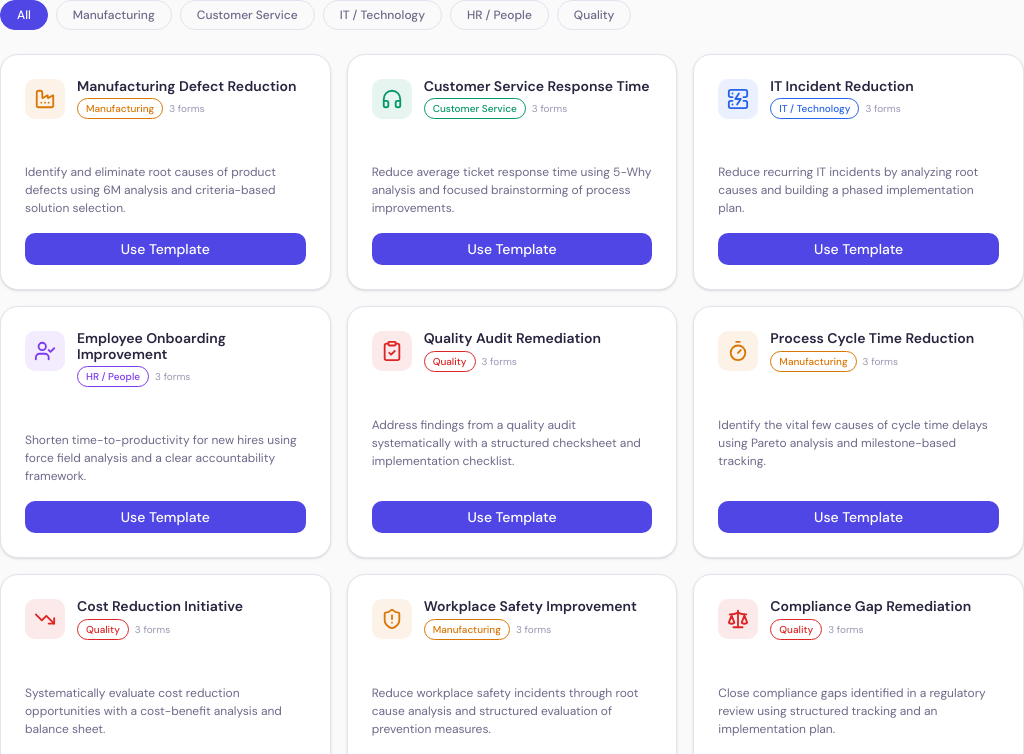
Scenario: TemplateBrowser › shows validation error when name is too short on submit
Click the button "Use Template" below "Manufacturing Defect Reduction" at (165, 249), box [25,233,306,265]
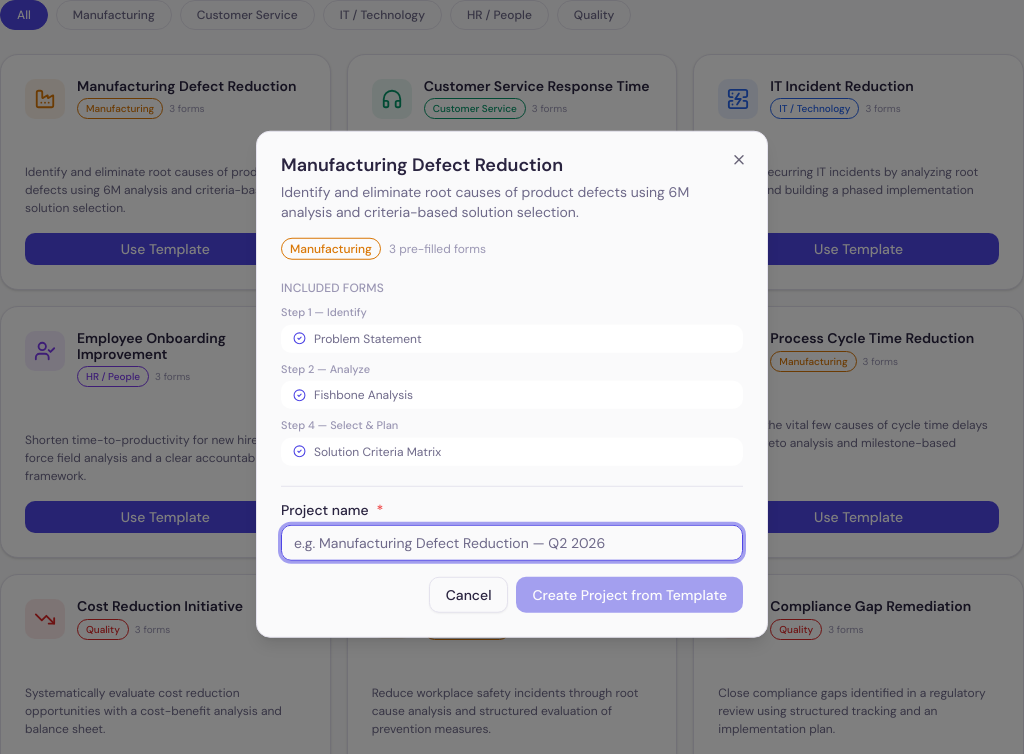
Type "AB" into the field with test id "template-project-name-input" at (512, 542), box [281,524,743,560]
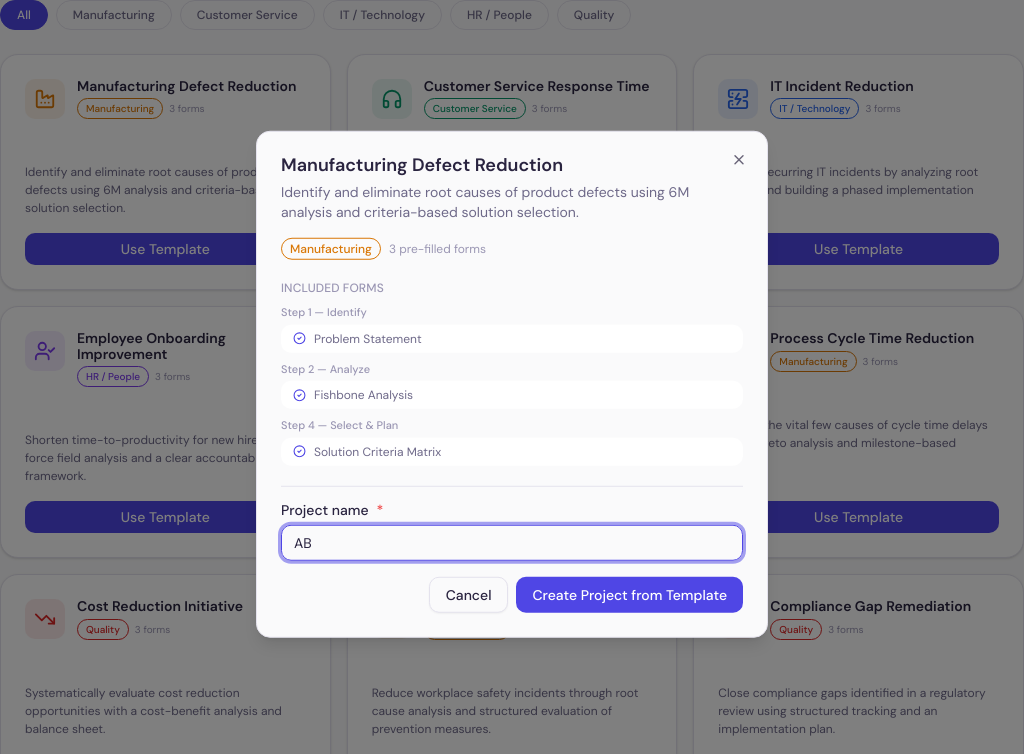
Click the button with test id "apply-dialog-submit" at (630, 594), box [516,576,743,612]
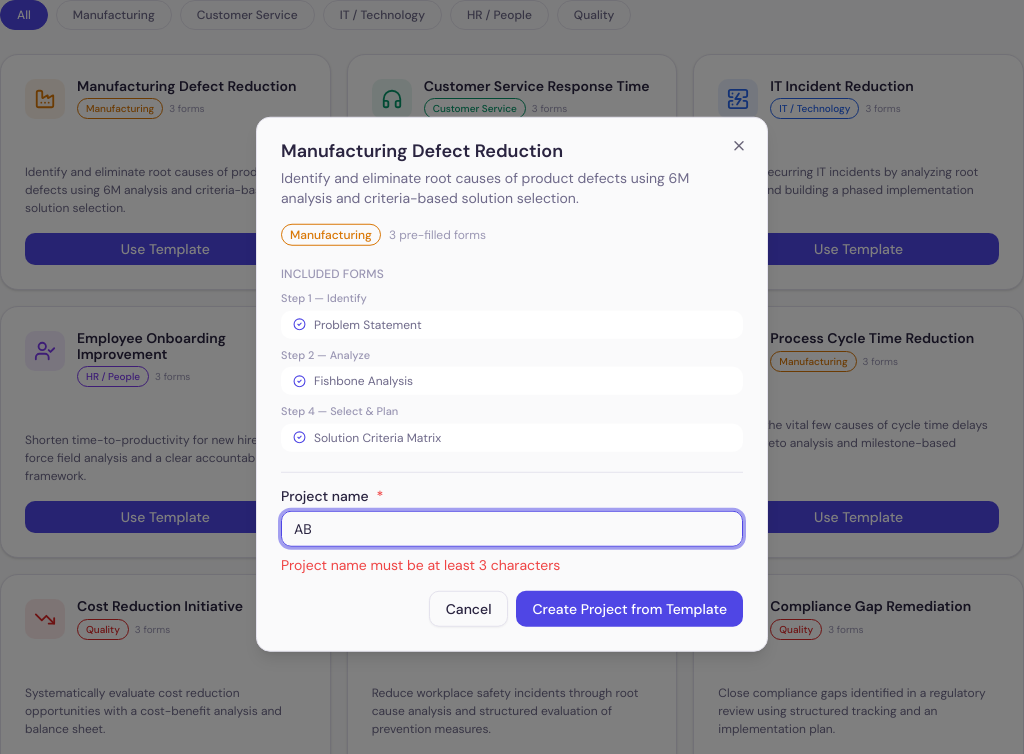
Check: the text "Project name must be at least 3 characters" is shown, box [281,555,560,573]
